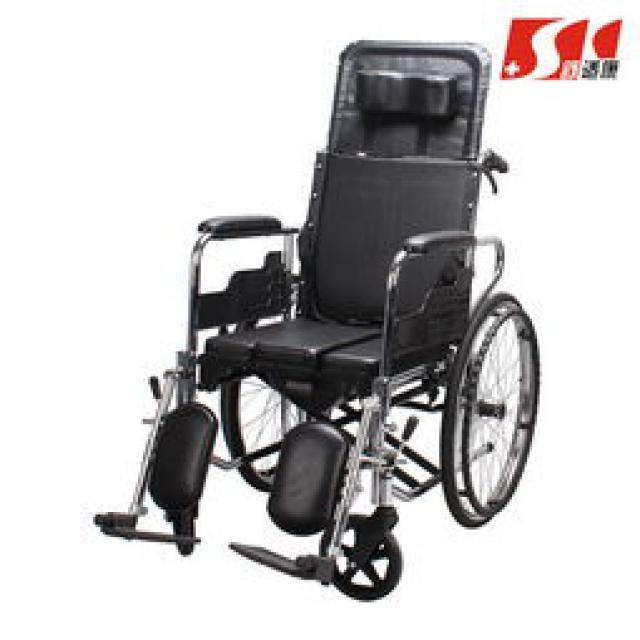wheelchair: (82, 25, 540, 610)
